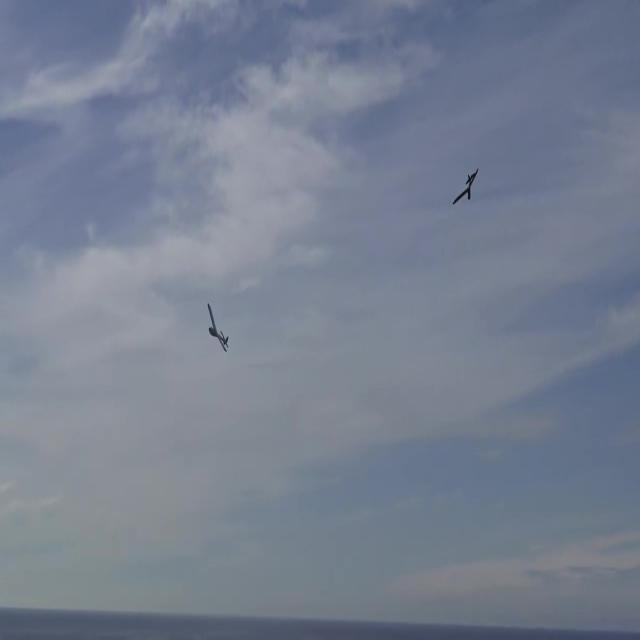iha: (206, 295, 229, 346), (452, 167, 479, 205)
